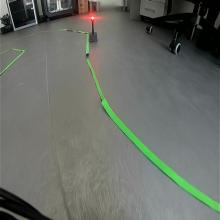red: (90, 15, 96, 22)
